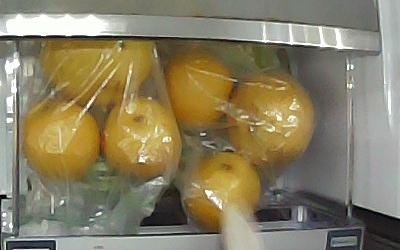pear_vinyl: (226, 70, 315, 165), (40, 39, 155, 107), (103, 99, 183, 178), (180, 152, 261, 229), (26, 102, 100, 179), (167, 54, 234, 130)
